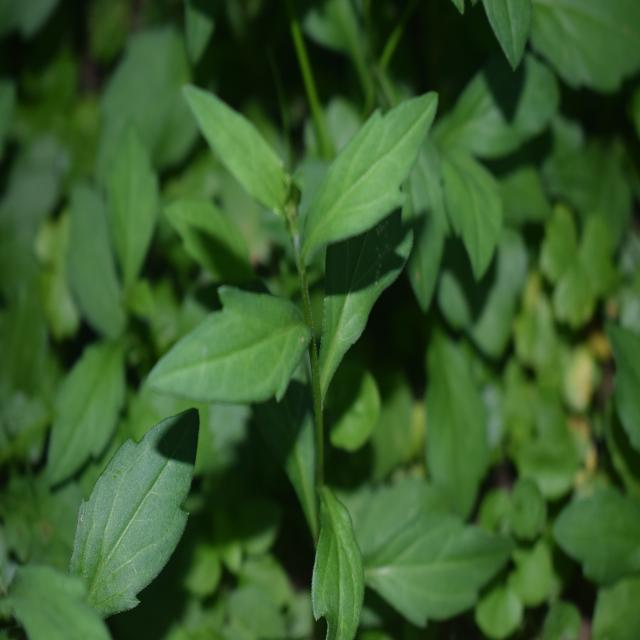Indian aster: (148, 36, 472, 572)
